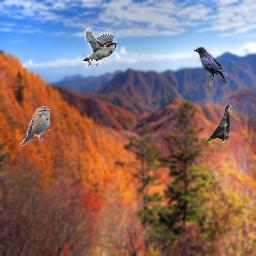Crow: (194, 47, 228, 87), (206, 105, 232, 145)
Sparrow: (83, 28, 118, 68), (20, 106, 50, 146)
